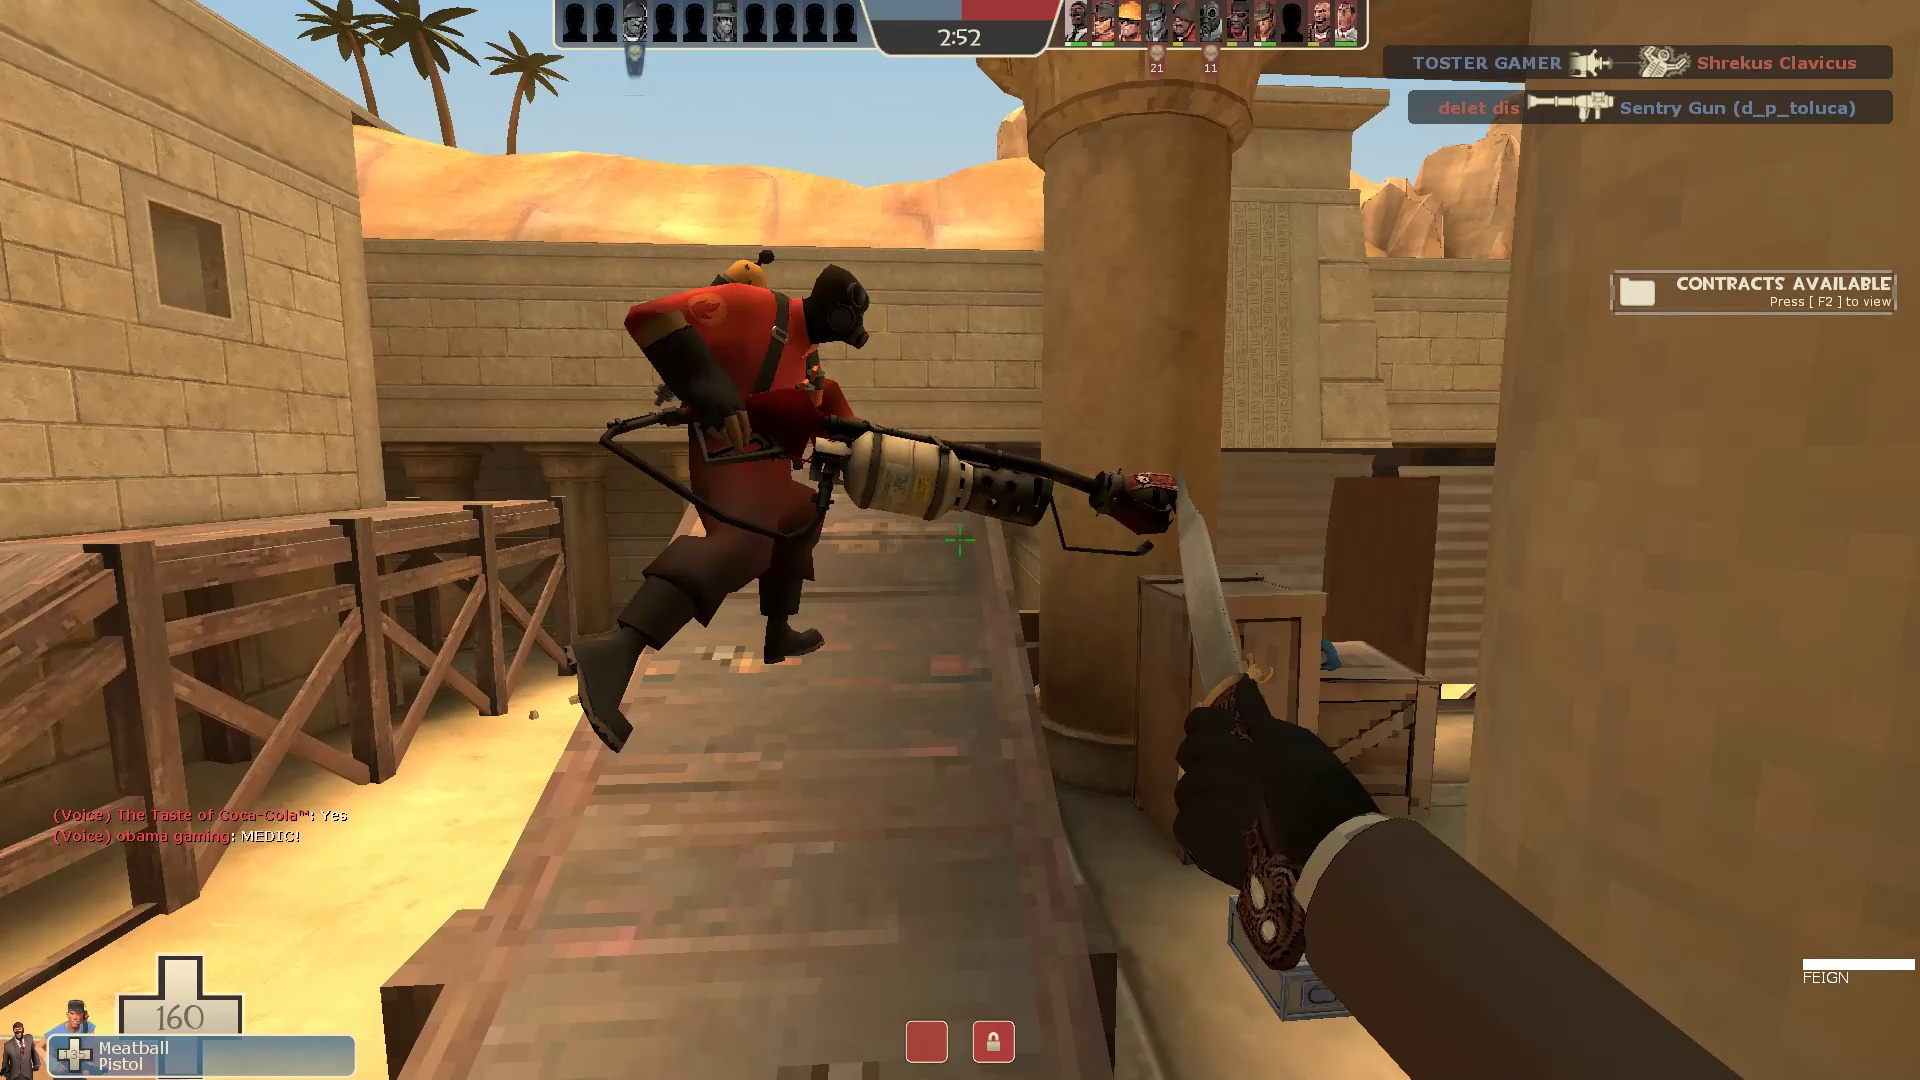red_pyro: (562, 229, 1203, 773)
